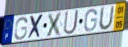G: (14, 16, 29, 41), (83, 8, 98, 33)
U: (62, 9, 80, 36), (98, 6, 115, 31)
X: (45, 11, 64, 38), (27, 13, 45, 41)
